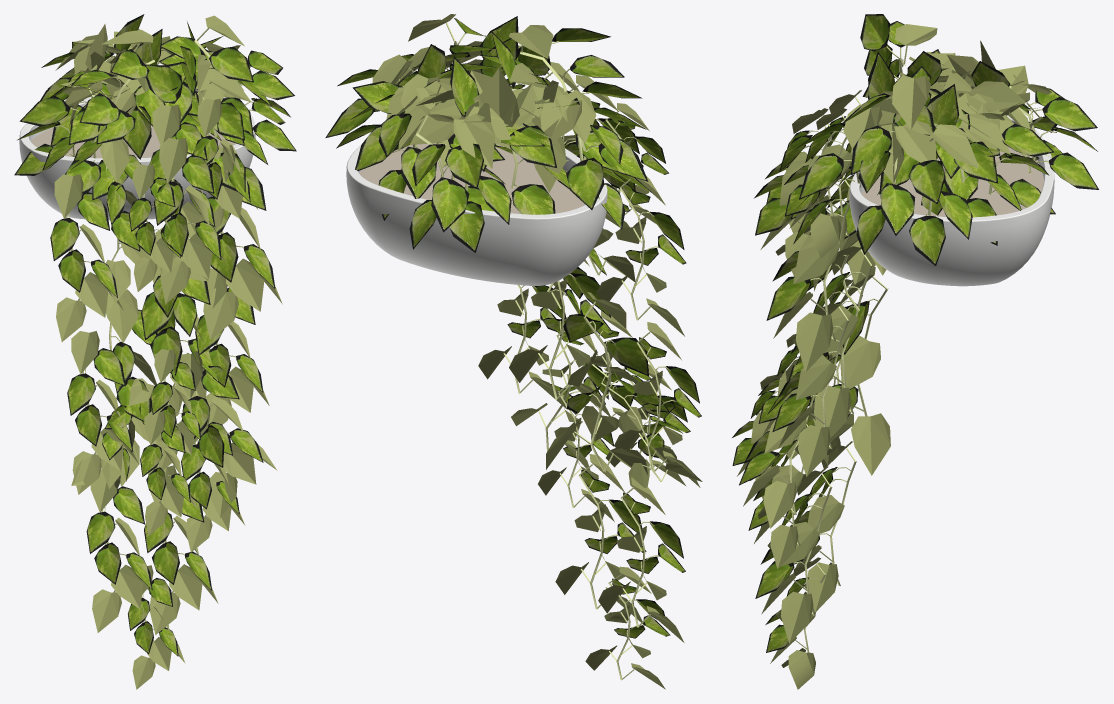
The model's file is decor-flower.glb.
3 views of the same model, side by side, from view 1: azimuth 30°, elevation 25°; view 2: azimuth 150°, elevation 25°; view 3: azimuth 270°, elevation 25° (orthographic). The views are drawn at different scales.
Parts seen in each view (by area): view 1: Flower_leaf2_smaller_cleansadfasdfasdfasd_0, Flower_leaf1_smaller_cleanasdfasfasdfas_0, Flower_White1_0, Flower_asdfasdfasdfasdf_0, Flower_Materi0150160560156_0; view 2: Flower_leaf2_smaller_cleansadfasdfasdfasd_0, Flower_leaf1_smaller_cleanasdfasfasdfas_0, Flower_White1_0, Flower_asdfasdfasdfasdf_0, Flower_Materi0150160560156_0; view 3: Flower_leaf1_smaller_cleanasdfasfasdfas_0, Flower_leaf2_smaller_cleansadfasdfasdfasd_0, Flower_White1_0, Flower_asdfasdfasdfasdf_0, Flower_Materi0150160560156_0.
Part boxes in pixels (<box>): Flower_leaf2_smaller_cleansadfasdfasdfasd_0: <box>14,14,296,656</box>; Flower_leaf1_smaller_cleanasdfasfasdfas_0: <box>54,15,282,689</box>; Flower_White1_0: <box>19,89,255,220</box>; Flower_asdfasdfasdfasdf_0: <box>55,27,256,641</box>; Flower_Materi0150160560156_0: <box>31,125,236,158</box>; Flower_leaf2_smaller_cleansadfasdfasdfasd_0: <box>325,16,701,638</box>; Flower_leaf1_smaller_cleanasdfasfasdfas_0: <box>372,14,702,689</box>; Flower_White1_0: <box>346,143,607,285</box>; Flower_asdfasdfasdfasdf_0: <box>375,22,676,680</box>; Flower_Materi0150160560156_0: <box>359,143,585,213</box>; Flower_leaf1_smaller_cleanasdfasfasdfas_0: <box>737,24,1051,689</box>; Flower_leaf2_smaller_cleansadfasdfasdfasd_0: <box>732,14,1098,652</box>; Flower_White1_0: <box>849,115,1054,286</box>; Flower_asdfasdfasdfasdf_0: <box>772,45,1056,652</box>; Flower_Materi0150160560156_0: <box>861,147,1043,216</box>.
Bounding box in the file's own units: 0.2872 × 0.6154 × 0.3064.
Materials: 5 (1 with a texture image).
